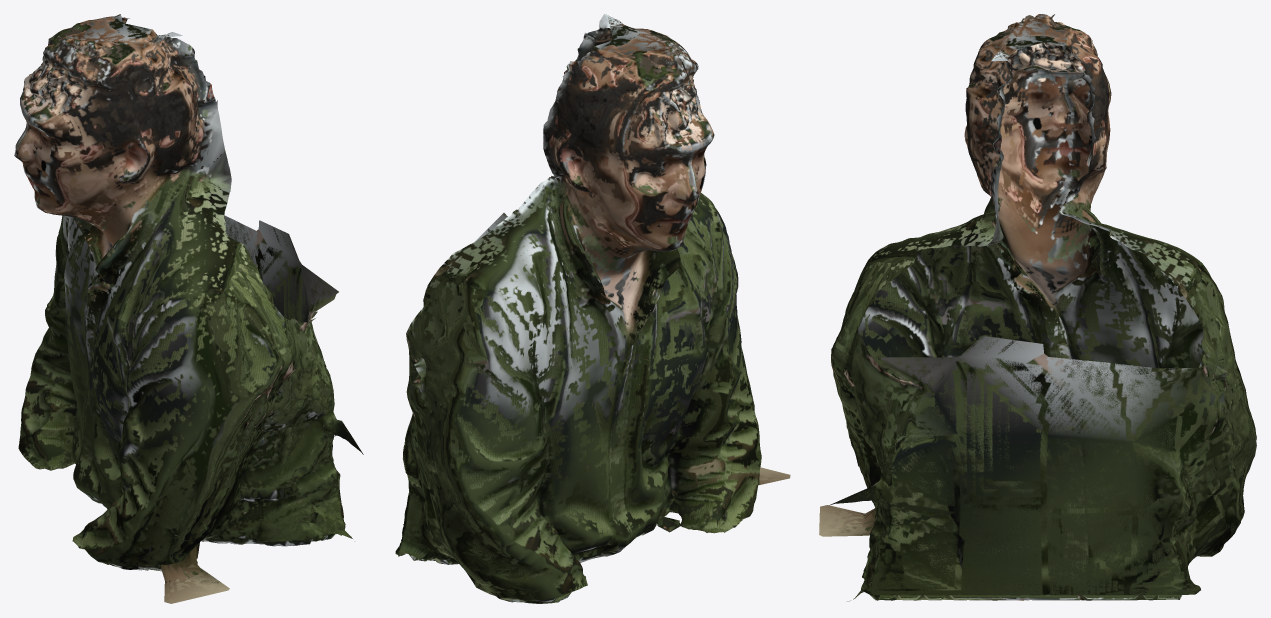
Rendered from asset.glb.
3 views of the same model, side by side, from view 1: azimuth 30°, elevation 25°; view 2: azimuth 150°, elevation 25°; view 3: azimuth 270°, elevation 25° (orthographic). The views are drawn at different scales.
Parts seen in each view (by area): view 1: Retopo_Mesh_0_Part_0.001; view 2: Retopo_Mesh_0_Part_0.001; view 3: Retopo_Mesh_0_Part_0.001.
Part boxes in pixels (<box>): Retopo_Mesh_0_Part_0.001: <box>14,14,363,603</box>; Retopo_Mesh_0_Part_0.001: <box>395,14,790,603</box>; Retopo_Mesh_0_Part_0.001: <box>819,14,1256,601</box>.
Bounding box in the file's own units: 16.29 × 32.71 × 26.19.
Materials: 1 (1 with a texture image).
